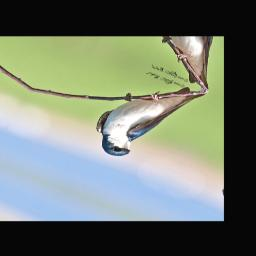Swallow: (81, 64, 207, 173)
